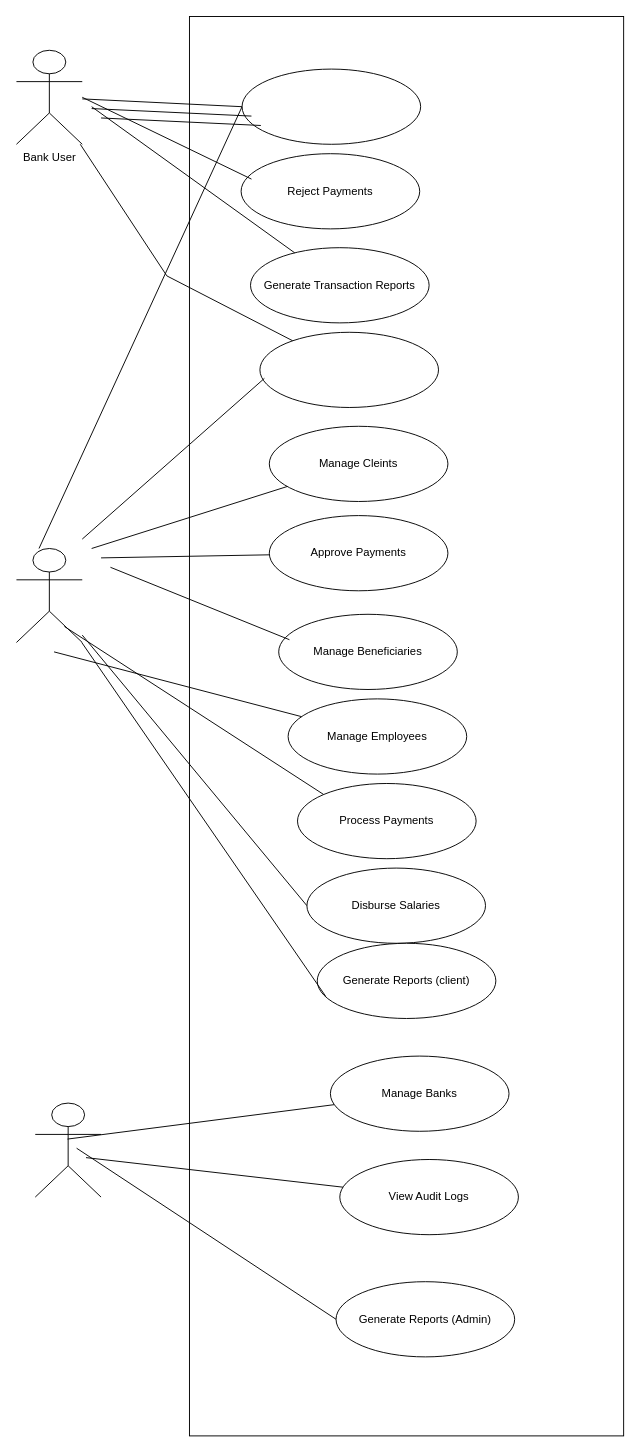
Some shapes in this 640 by 1452 pixel diagram are drawn without their labels. The shapes that lost their labels are listed below. From the top down, each one's box as (x1, y1, x2, y2) in pixels, then its label:
(241, 68, 421, 144): Login
(259, 331, 439, 407): Onboard Customer/client
(16, 548, 82, 642): ClientUser
(34, 1102, 101, 1197): SuoerAdmin
